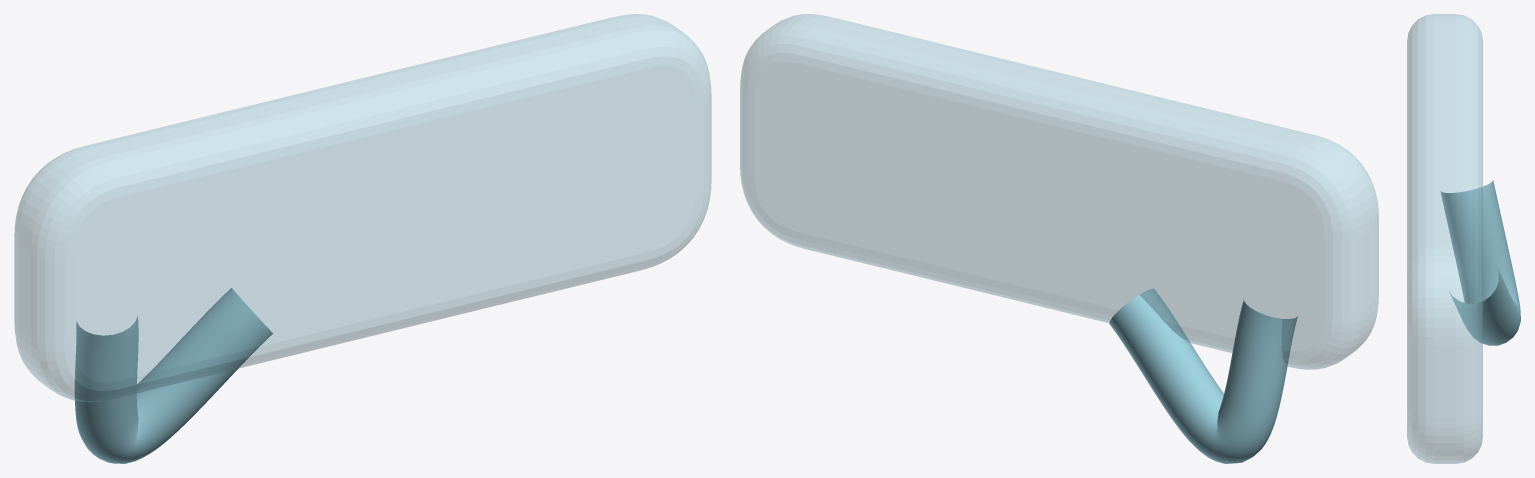
The picture shows the model from 3 angles, left to right: view 1: azimuth 30°, elevation 25°; view 2: azimuth 150°, elevation 25°; view 3: azimuth 270°, elevation 25°; orthographic projection. The views are drawn at different scales.
Visible parts, largest first — view 1: floating-shelf, cantilever-support; view 2: floating-shelf, cantilever-support; view 3: floating-shelf, cantilever-support.
Part boxes in pixels (x1,y1,x2,y2): floating-shelf: (14,14,711,401); cantilever-support: (74,288,272,463); floating-shelf: (740,14,1378,369); cantilever-support: (1109,288,1297,463); floating-shelf: (1407,14,1482,463); cantilever-support: (1440,180,1520,345).
Size of the model in its own units: 2.5 by 1.21 by 0.4197.
